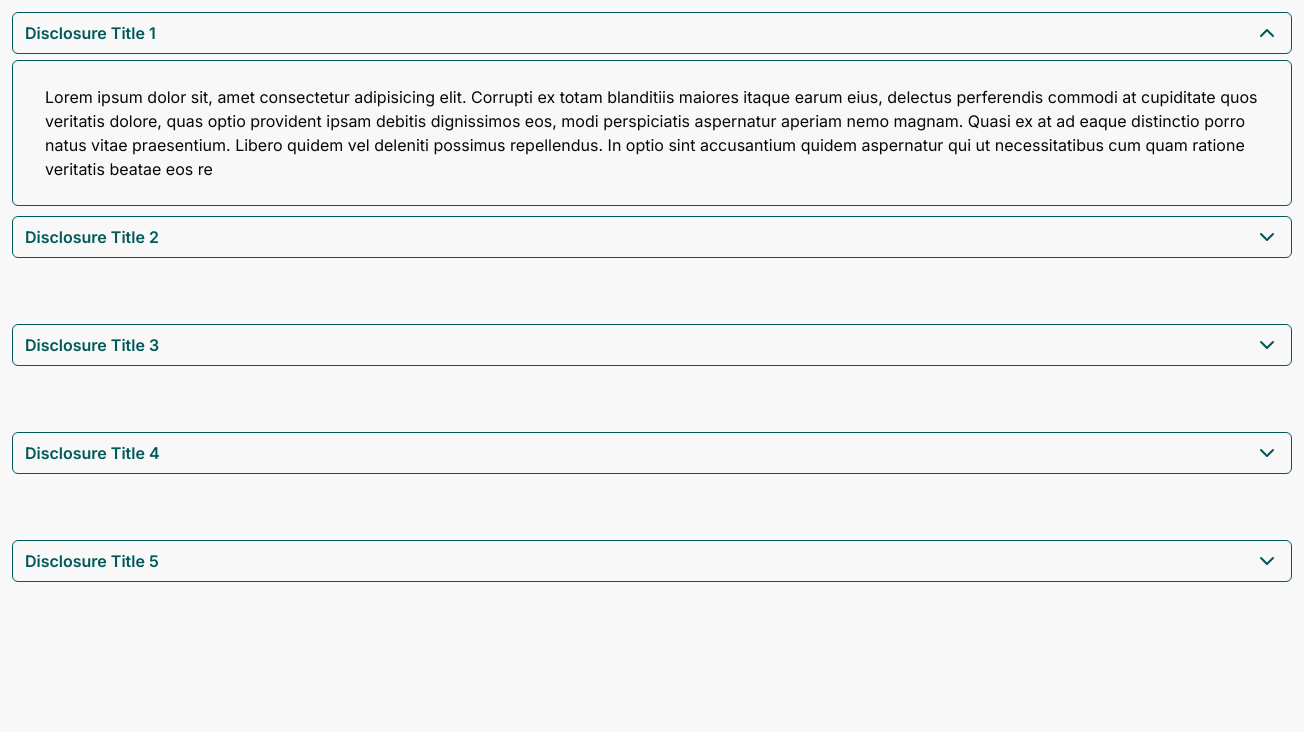
Accordion › Interaction › click toggles disclosure
The width and height of the screenshot is (1304, 732).
What coordinates should you click on to do the following:
click the 2nd button
I would click on:
 (652, 237)
Its box is [12,216,1292,258].
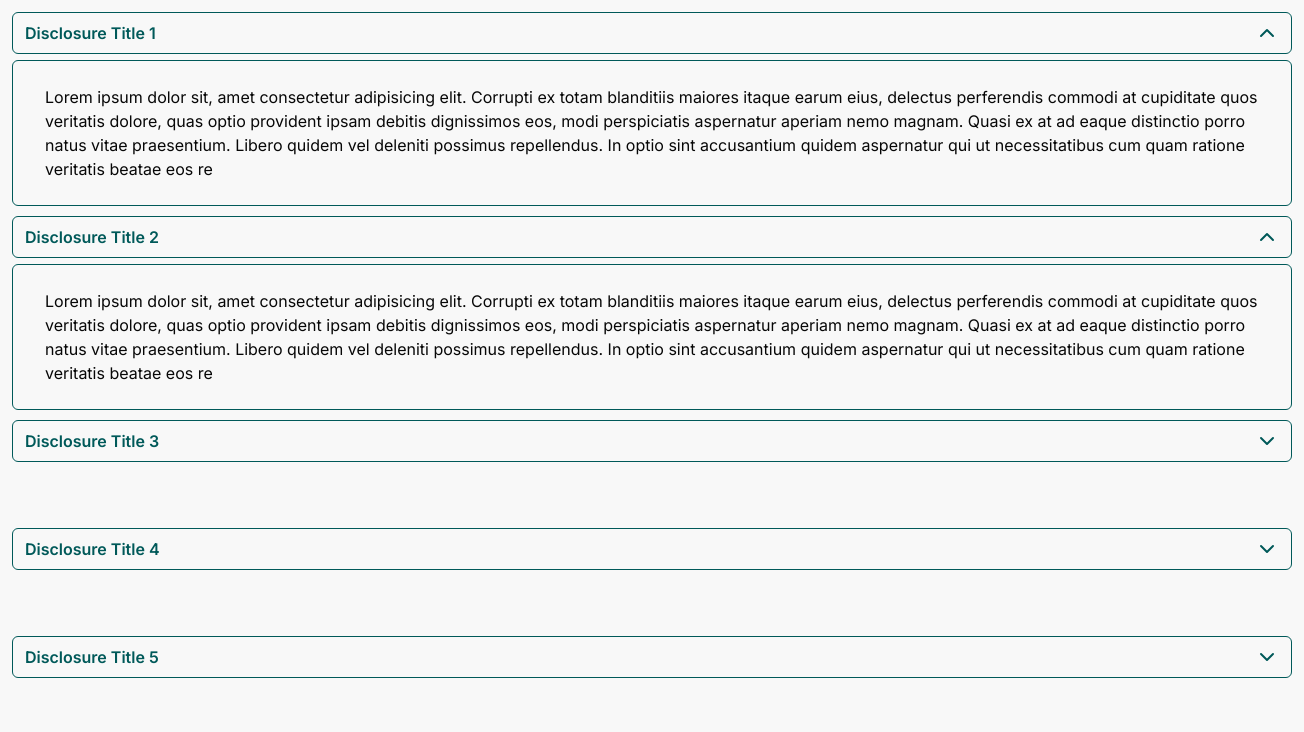
Check: the 2nd button is expanded, box [12,216,1292,258]
